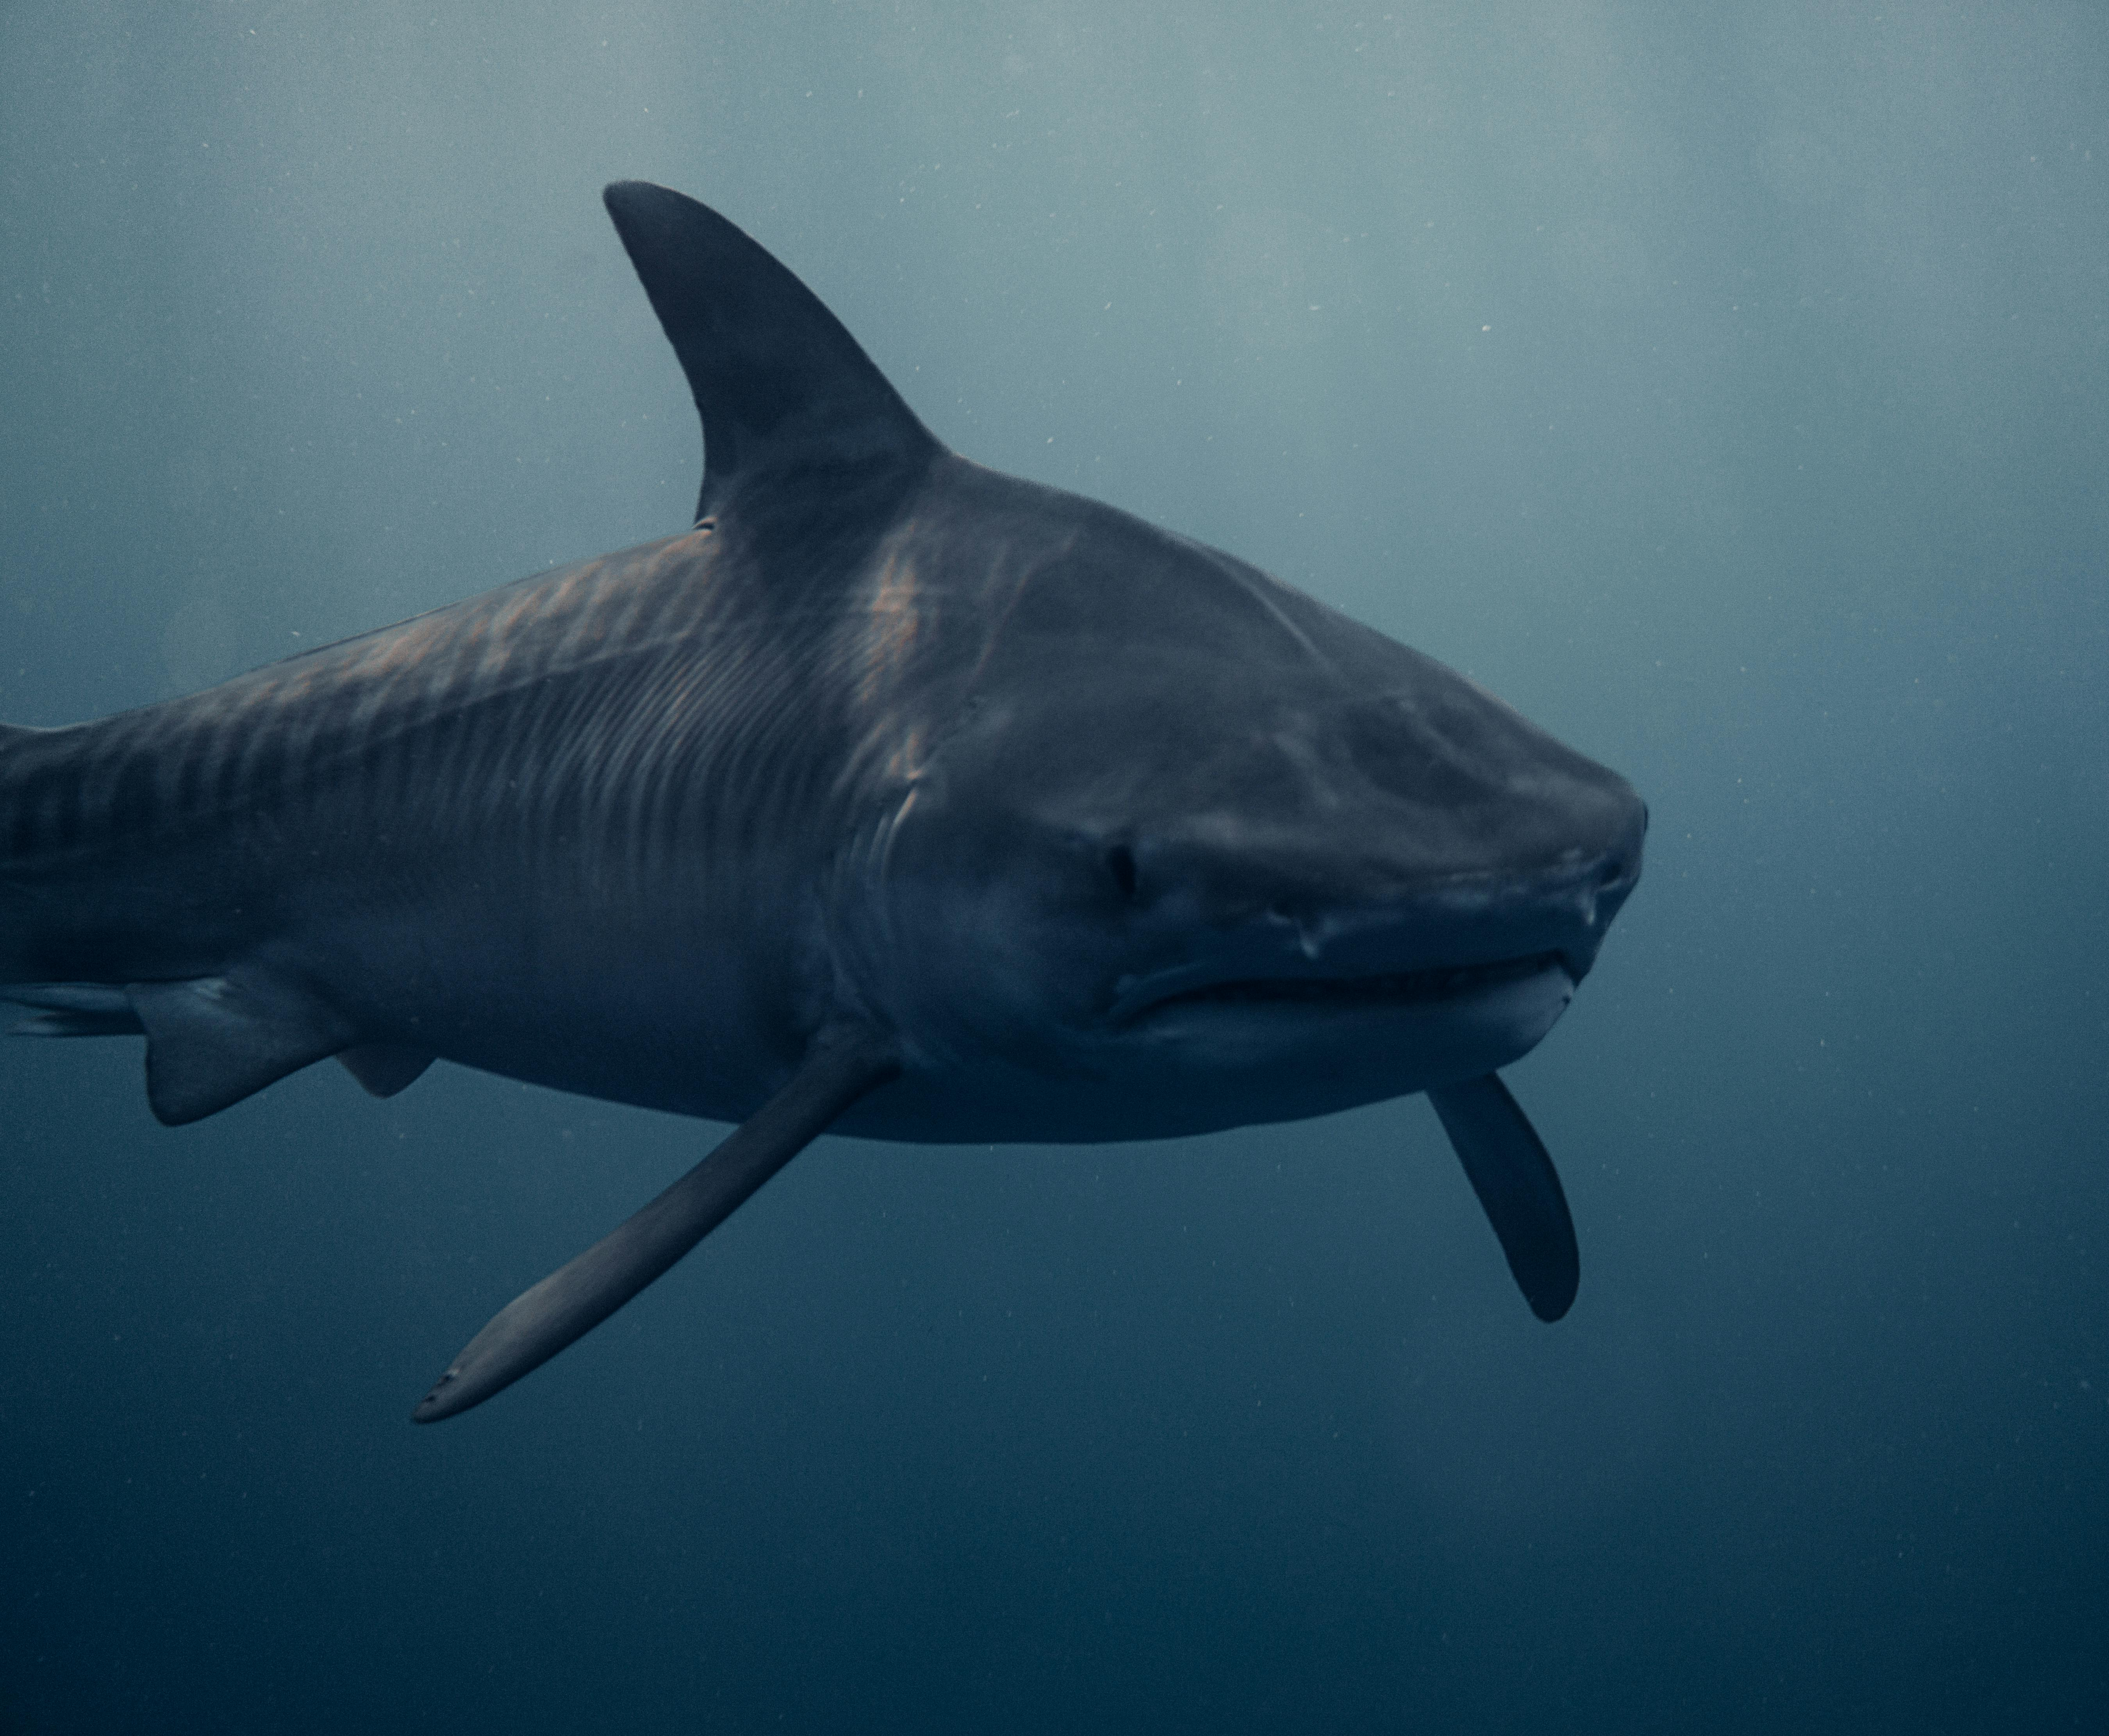shark: (0, 191, 1654, 1435)
